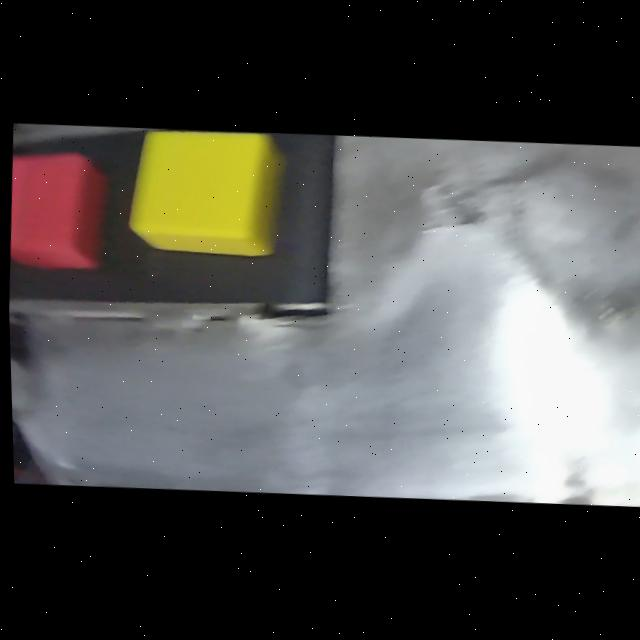redBox: (6, 145, 115, 274)
yellowBox: (120, 127, 289, 262)
